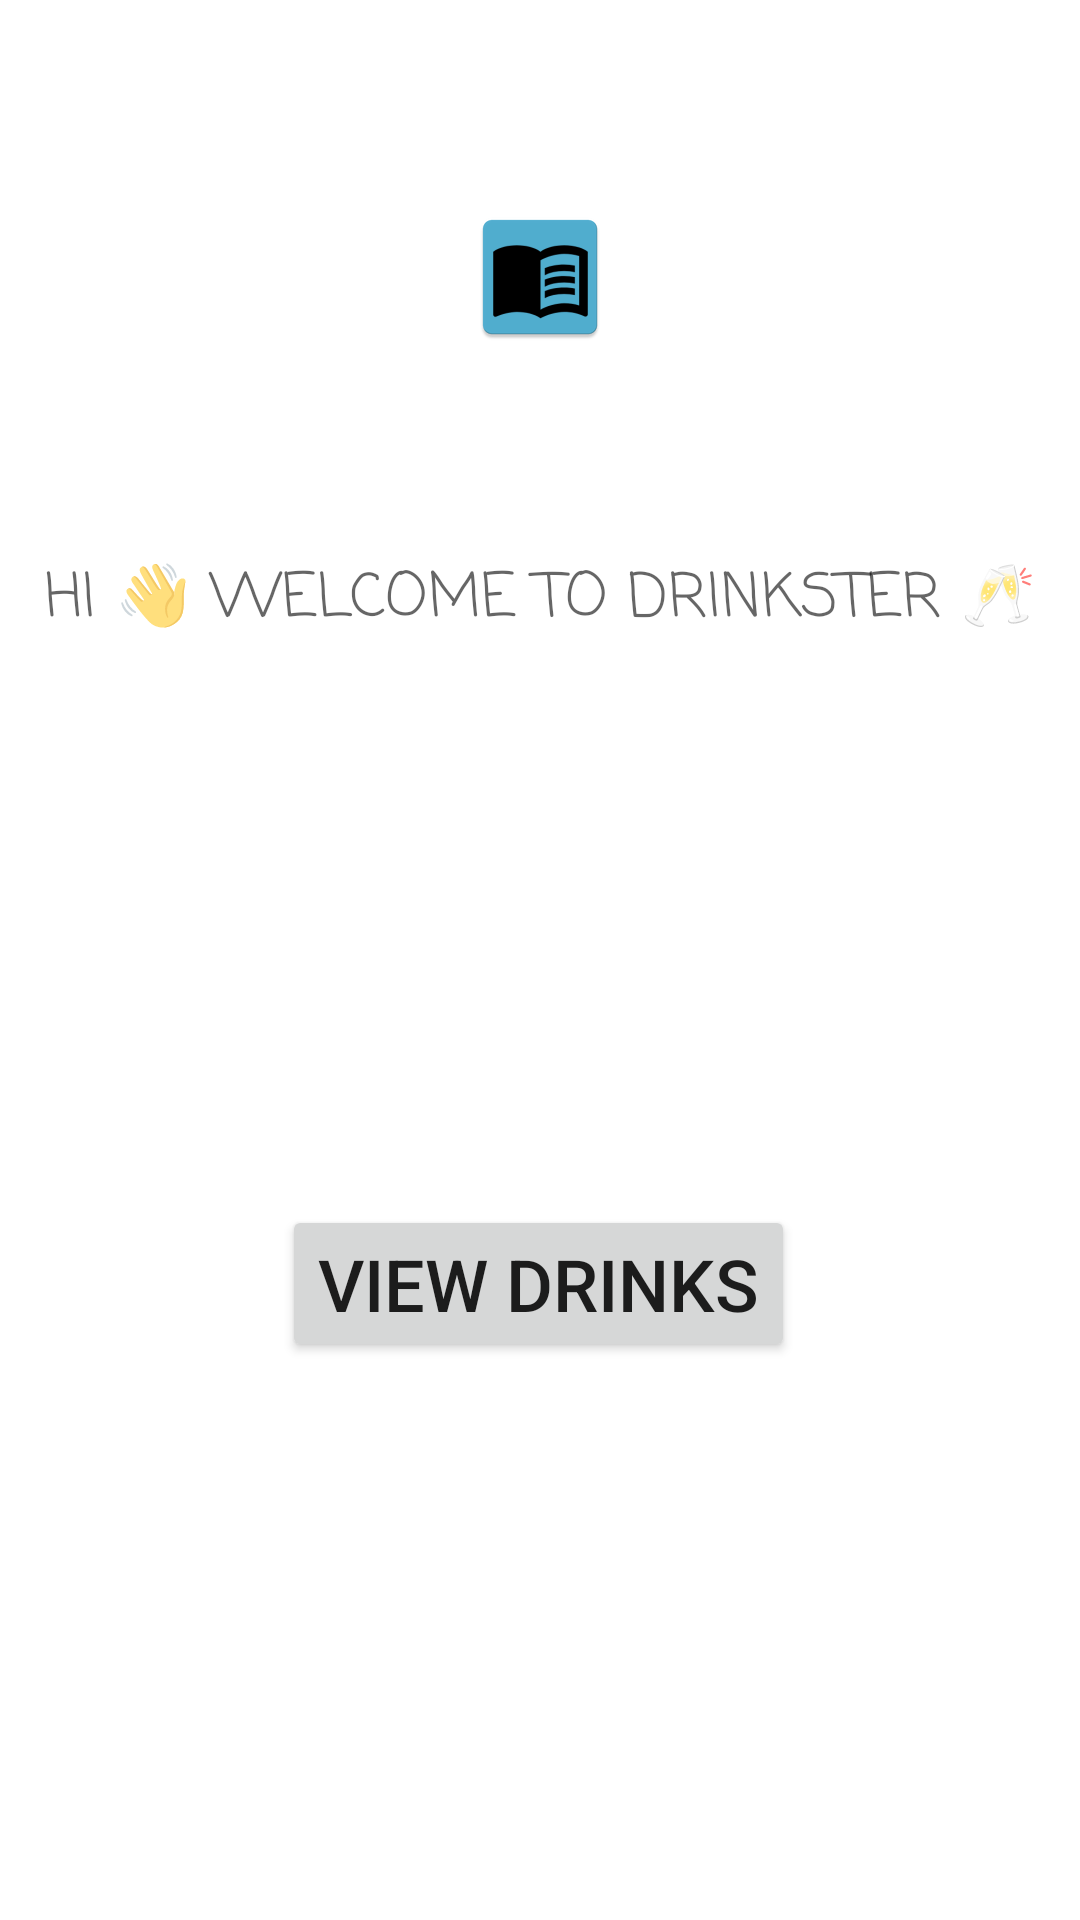

Point at icon controls on the screen. Image size 1080px×1920px, points as (x,y).
book: (540,279)
